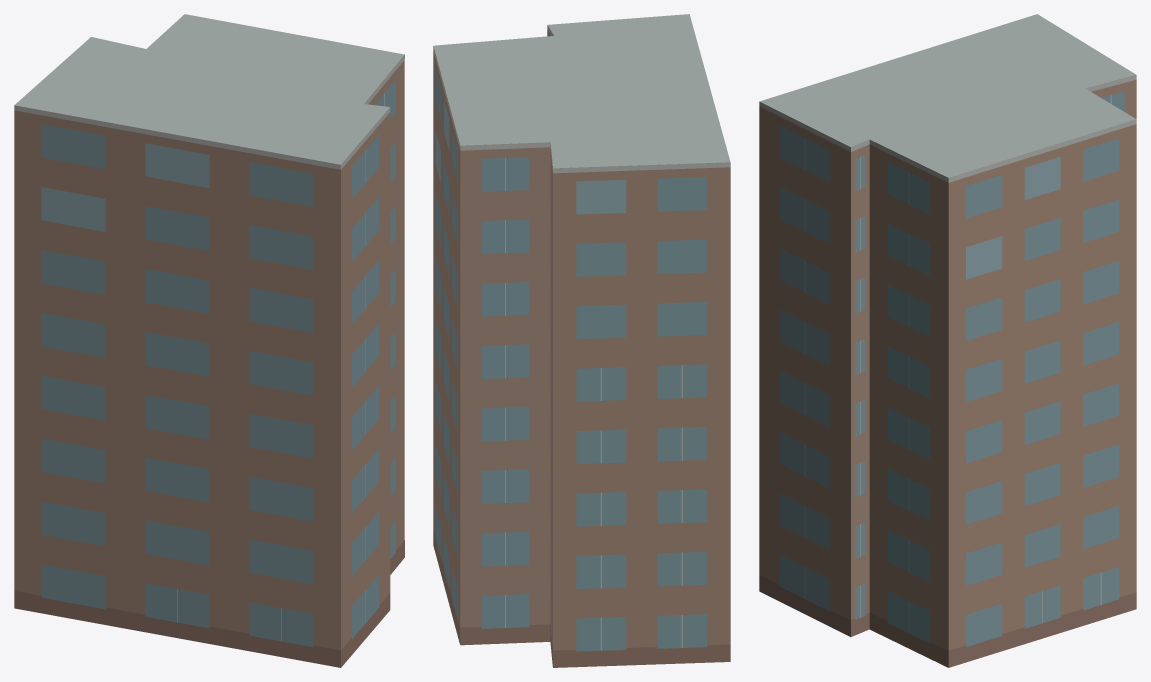
The model's file is survey-upis-32534989.glb.
3 renders of one model, left to right at view 1: azimuth 30°, elevation 25°; view 2: azimuth 150°, elevation 25°; view 3: azimuth 270°, elevation 25°, orthographic. The views are drawn at different scales.
Visible parts, largest first — view 1: survey-upis-32534989.tmp; view 2: survey-upis-32534989.tmp; view 3: survey-upis-32534989.tmp.
Part boxes in pixels (box(x1,y1,x2,y2)): survey-upis-32534989.tmp: box(14, 14, 404, 667); survey-upis-32534989.tmp: box(433, 14, 730, 667); survey-upis-32534989.tmp: box(759, 14, 1136, 667).
Bounding box in the file's own units: 17.59 × 24.5 × 17.1.
